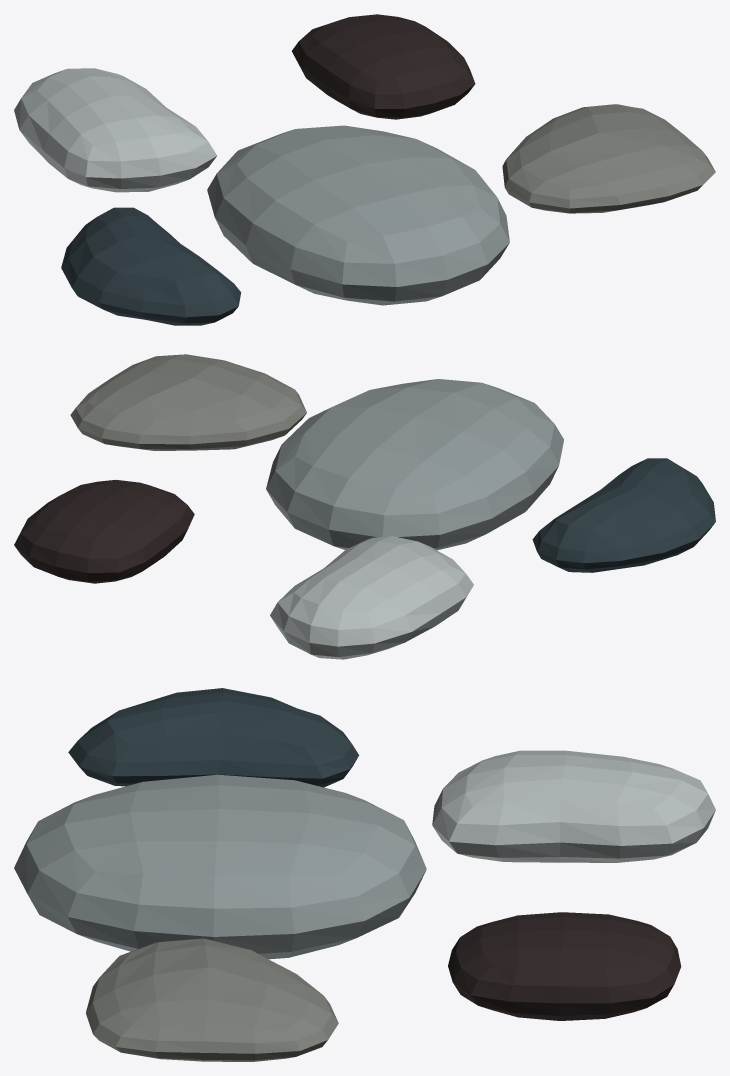
The model's file is stone.gltf.
3 views of the same model, one above another, from view 1: azimuth 30°, elevation 25°; view 2: azimuth 150°, elevation 25°; view 3: azimuth 270°, elevation 25° (orthographic). The views are drawn at different scales.
Parts seen in each view (by area): view 1: node-0; view 2: node-0; view 3: node-0.
Boxes of the visible parts, x1,y1,x2,y2 form: node-0: (14, 14, 715, 325); node-0: (14, 354, 715, 659); node-0: (14, 688, 715, 1061).
Bounding box in the file's own units: 3.13 × 0.4966 × 2.64.
